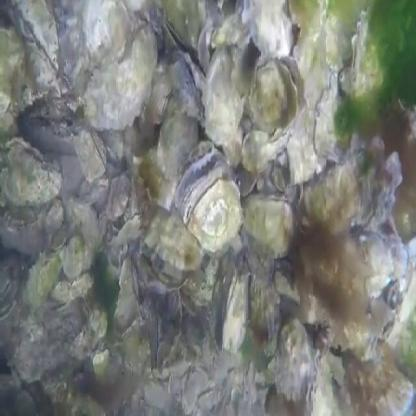Oyster- Indeterminate: (351, 4, 386, 100), (245, 193, 295, 254), (166, 52, 210, 120), (223, 274, 250, 352), (304, 350, 333, 416), (0, 279, 18, 324), (0, 266, 12, 304)
Oyster-Closed: (83, 23, 157, 132), (299, 148, 377, 233), (333, 356, 415, 416), (159, 95, 200, 176), (203, 49, 240, 138), (316, 73, 352, 161), (275, 321, 314, 401), (240, 0, 292, 55), (22, 246, 63, 306), (140, 146, 179, 209), (0, 26, 22, 109), (76, 131, 106, 182), (146, 61, 170, 124), (289, 0, 327, 38), (183, 371, 213, 414), (105, 174, 131, 219), (64, 235, 84, 275), (95, 349, 110, 384), (198, 390, 218, 411), (245, 363, 255, 390)
Oyster-Open: (177, 150, 243, 255), (142, 206, 202, 279), (251, 57, 306, 136), (0, 136, 60, 206), (162, 20, 186, 61), (373, 299, 395, 338)
